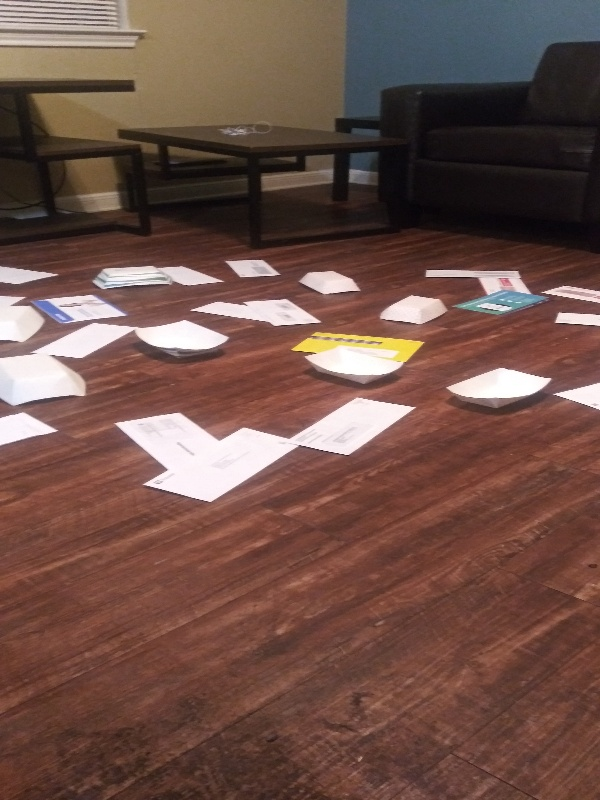plate: (443, 363, 556, 412), (1, 350, 92, 410), (129, 318, 239, 364), (305, 344, 405, 390), (87, 260, 175, 295), (376, 289, 450, 330), (2, 302, 50, 346), (298, 267, 366, 298)
